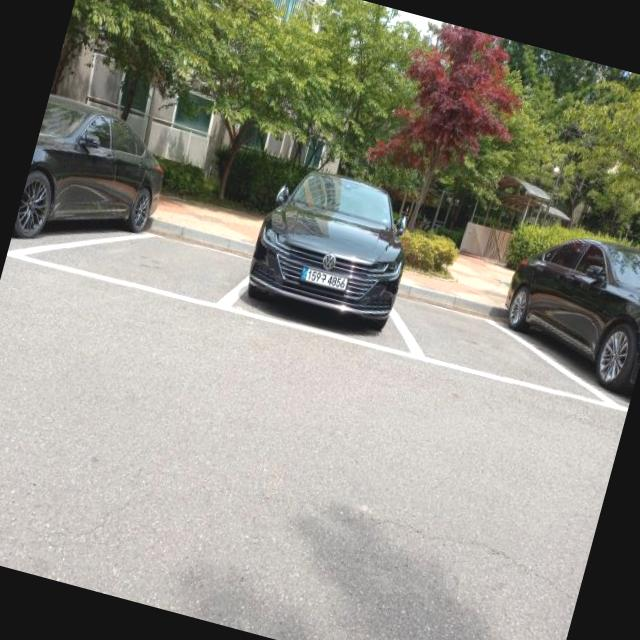car: (238, 154, 420, 333), (10, 100, 171, 272), (493, 217, 640, 392)
free: (5, 193, 256, 319), (375, 288, 621, 407)
